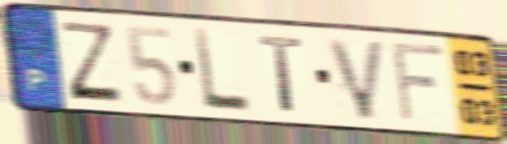5: (124, 23, 178, 108)
F: (389, 39, 447, 125)
L: (191, 26, 254, 116)
T: (256, 33, 307, 116)
V: (325, 35, 389, 123)
Z: (59, 19, 126, 106)
